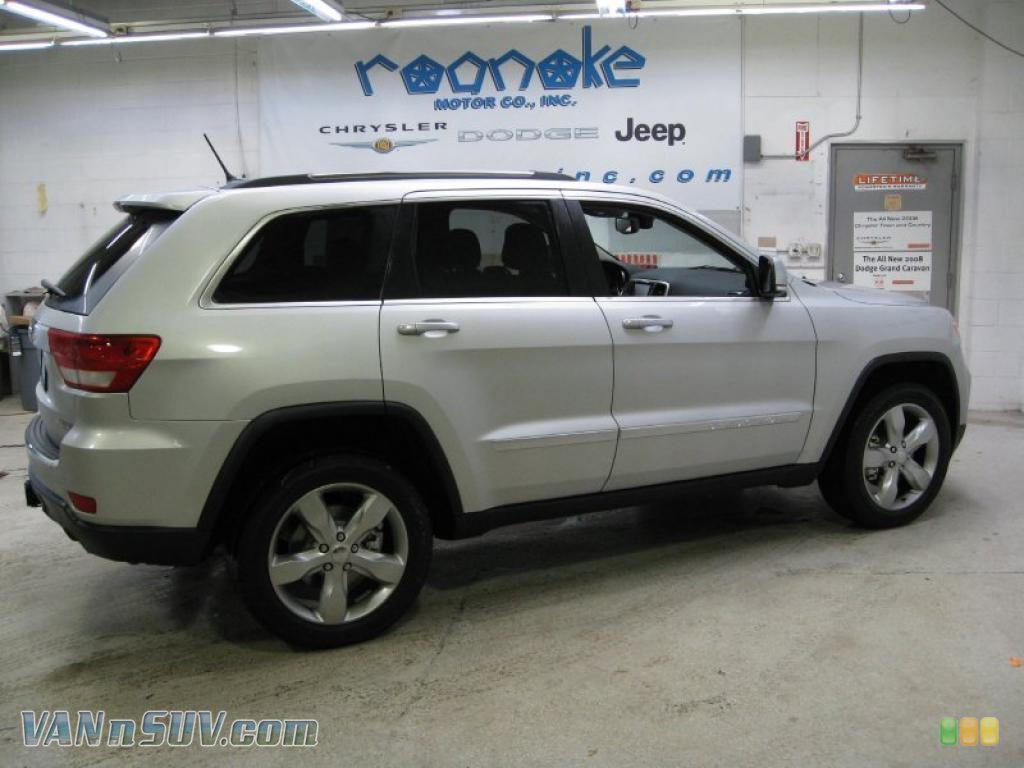Car: (13, 126, 998, 682)
